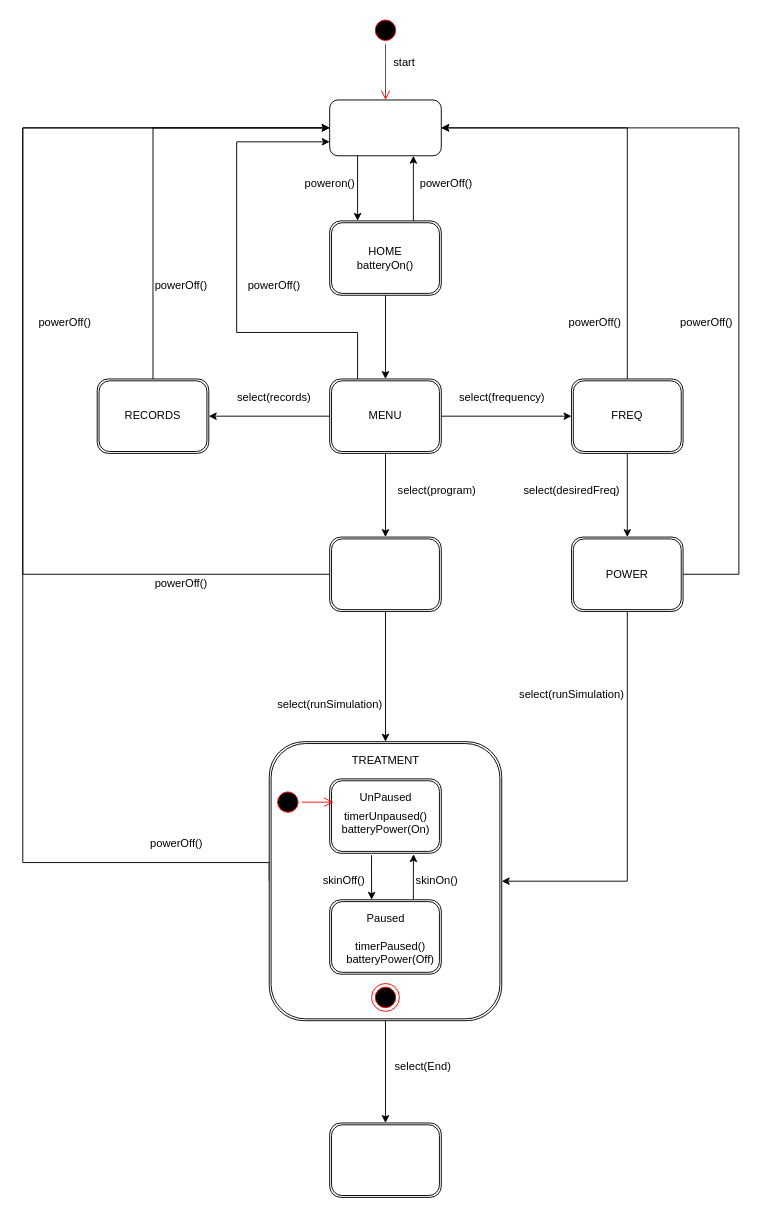
Image size: 763x1214. Some labels were removed from this diagram. The box of each missing label's shape, as (x1, y1, x2, y2) in pixels:
FINISHED saveRecording(On): (329, 1122, 441, 1197)
OFF: (329, 99, 441, 156)
PROG: (329, 536, 441, 611)
